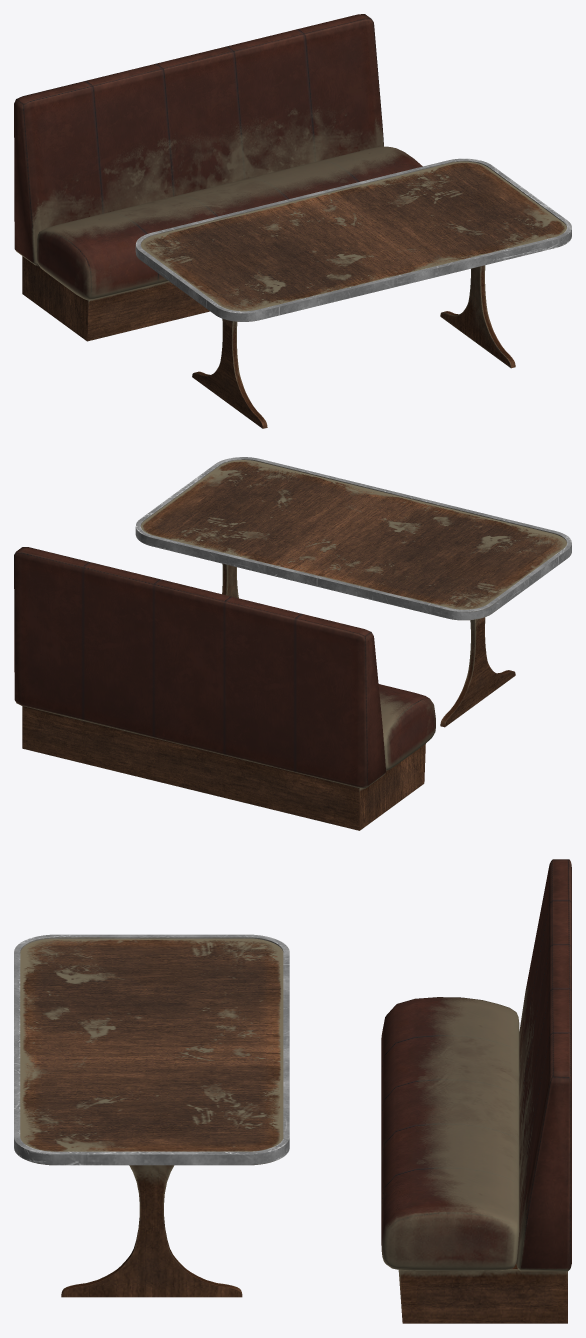
The model's file is table_and_bench.glb.
3 renders of one model, top to bottom at view 1: azimuth 30°, elevation 25°; view 2: azimuth 150°, elevation 25°; view 3: azimuth 270°, elevation 25°, orthographic. The views are drawn at different scales.
Parts seen in each view (by area): view 1: Box006, object 2; view 2: Box006, object 2; view 3: object 2, Box006.
Part boxes in pixels (left/top/right/bottom): Box006: left=14, top=14, right=422, bottom=341; object 2: left=135, top=158, right=571, bottom=428; Box006: left=14, top=547, right=435, bottom=830; object 2: left=135, top=457, right=571, bottom=727; object 2: left=14, top=934, right=289, bottom=1297; Box006: left=381, top=859, right=571, bottom=1323.
Size of the model in its own units: 0.8774 by 0.4686 by 0.9394.
1 material, 1 textured.
